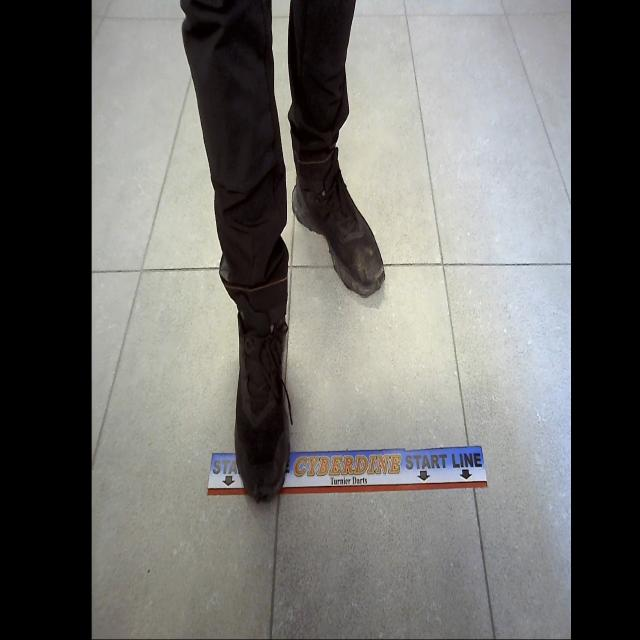foot: (291, 162, 385, 297), (234, 310, 291, 502)
